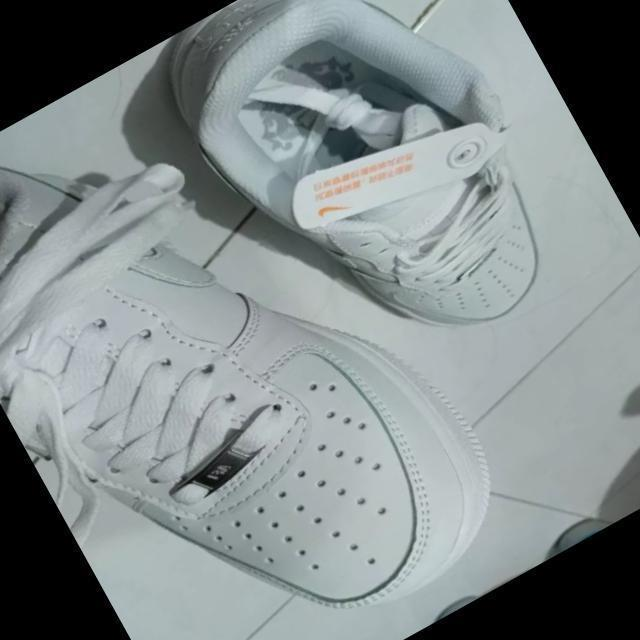nike fake air force: (0, 0, 536, 640), (141, 0, 597, 410)
